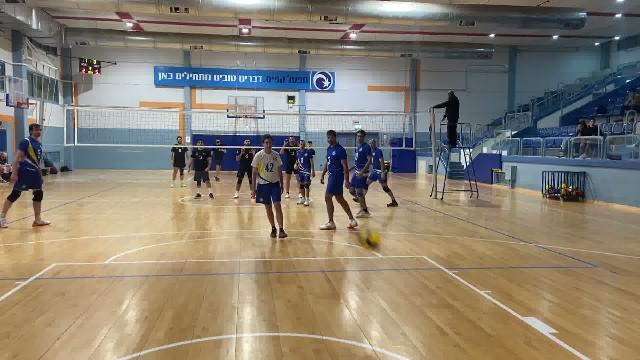ball: (355, 218, 386, 250)
